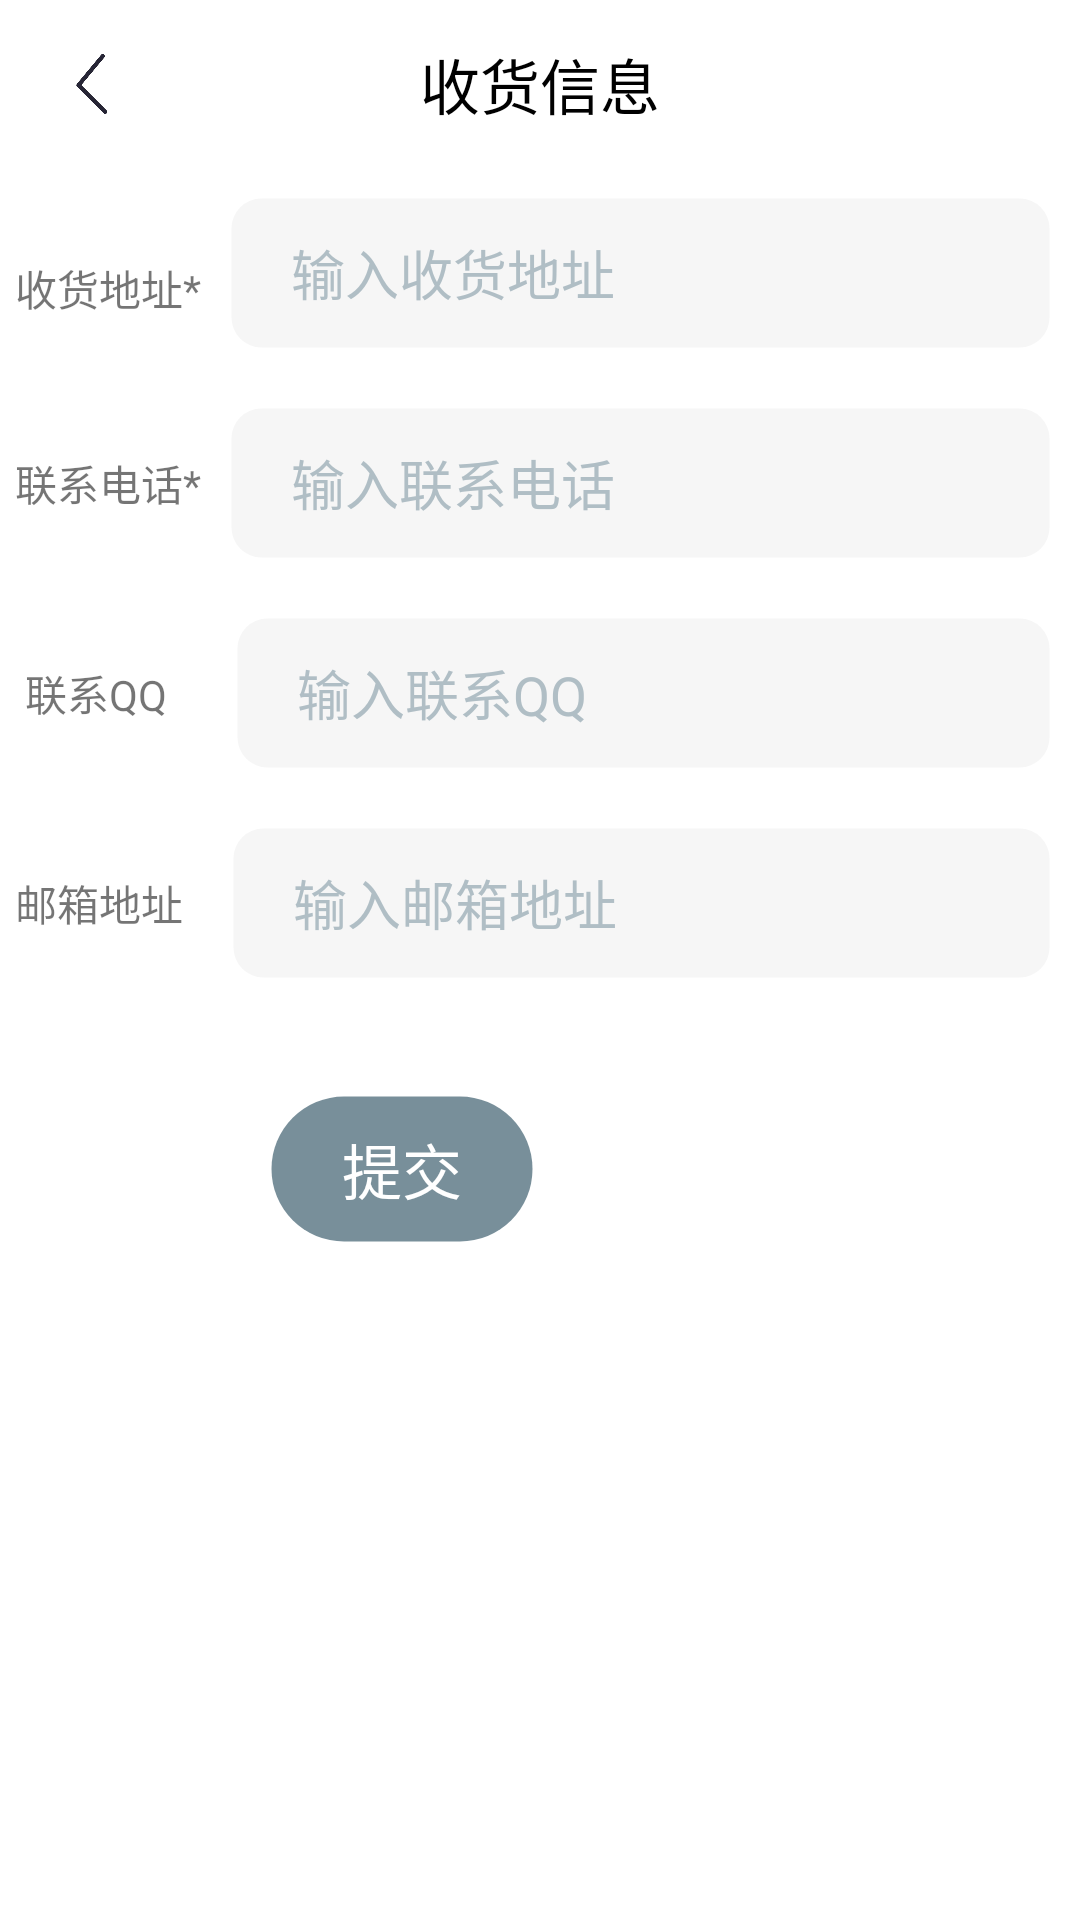

Named icons in this screenshot (1080×1920) and their bounding boxes, (x1, y1, x2, y2):
back: (76, 54, 107, 114)
